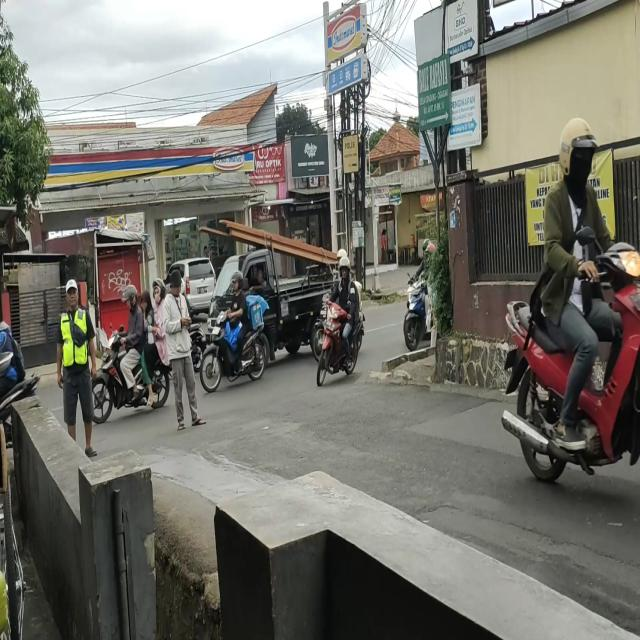helmet: (562, 119, 597, 176), (230, 271, 246, 295), (123, 284, 138, 308), (340, 256, 354, 279), (153, 278, 165, 300)
no-helmet: (140, 292, 150, 308)
